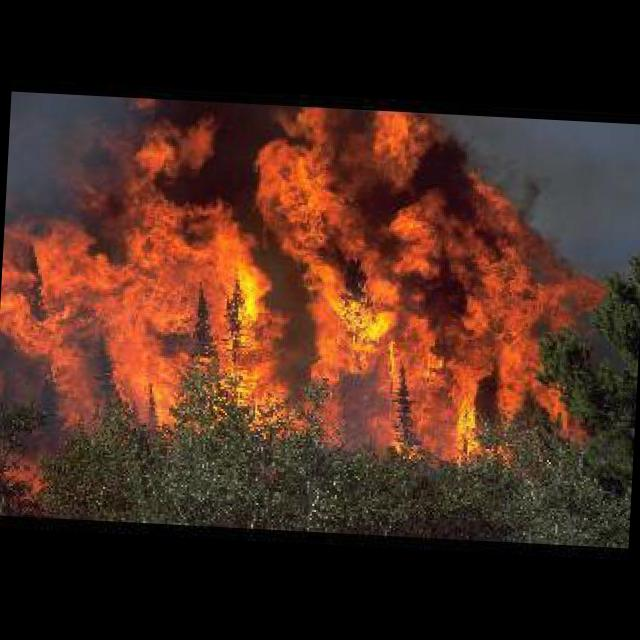Fire: (0, 93, 610, 468)
